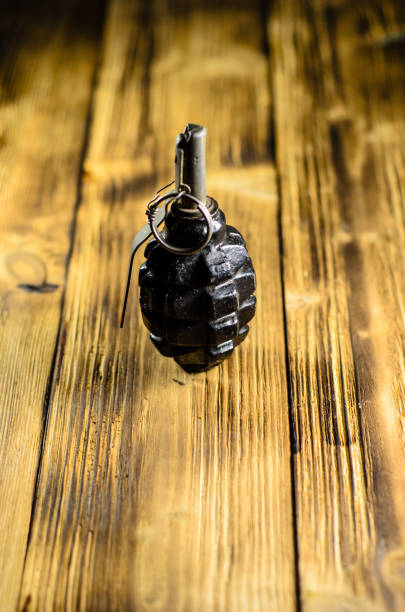e1: (117, 126, 261, 378)
